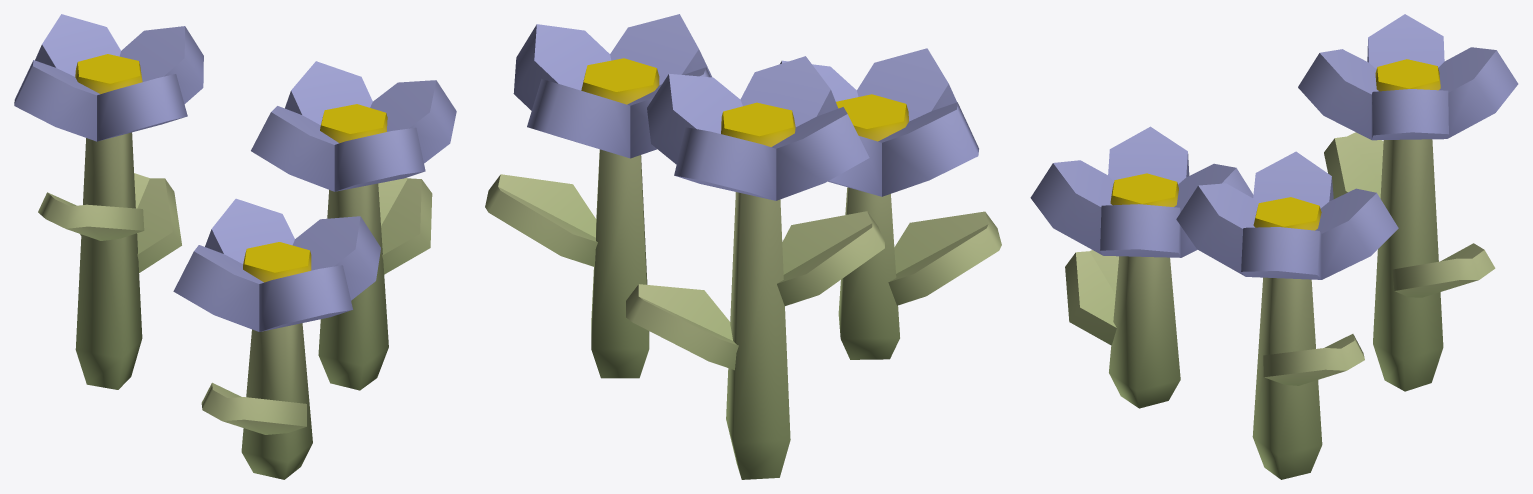
The model's file is flowers-ground-tall.glb.
3 views of the same model, side by side, from view 1: azimuth 30°, elevation 25°; view 2: azimuth 150°, elevation 25°; view 3: azimuth 270°, elevation 25° (orthographic). The views are drawn at different scales.
Parts seen in each view (by area): view 1: flowers-ground-tall; view 2: flowers-ground-tall; view 3: flowers-ground-tall.
Part boxes in pixels (<box>): flowers-ground-tall: <box>14,14,456,479</box>; flowers-ground-tall: <box>485,14,1001,479</box>; flowers-ground-tall: <box>1030,14,1518,479</box>.
Size of the model in its own units: 0.2744 by 0.232 by 0.3107.
